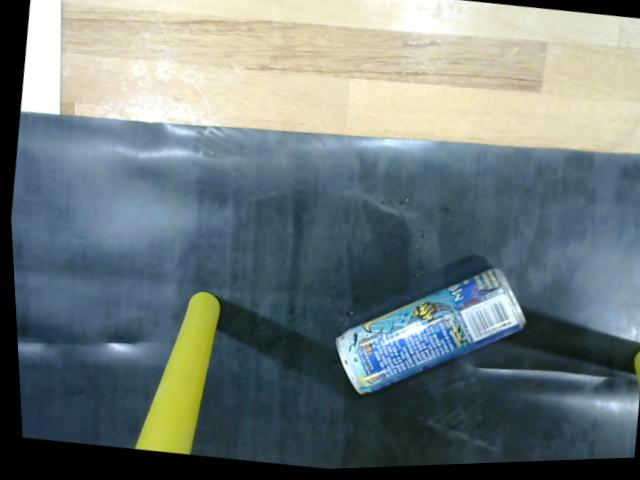can: (326, 268, 527, 398)
